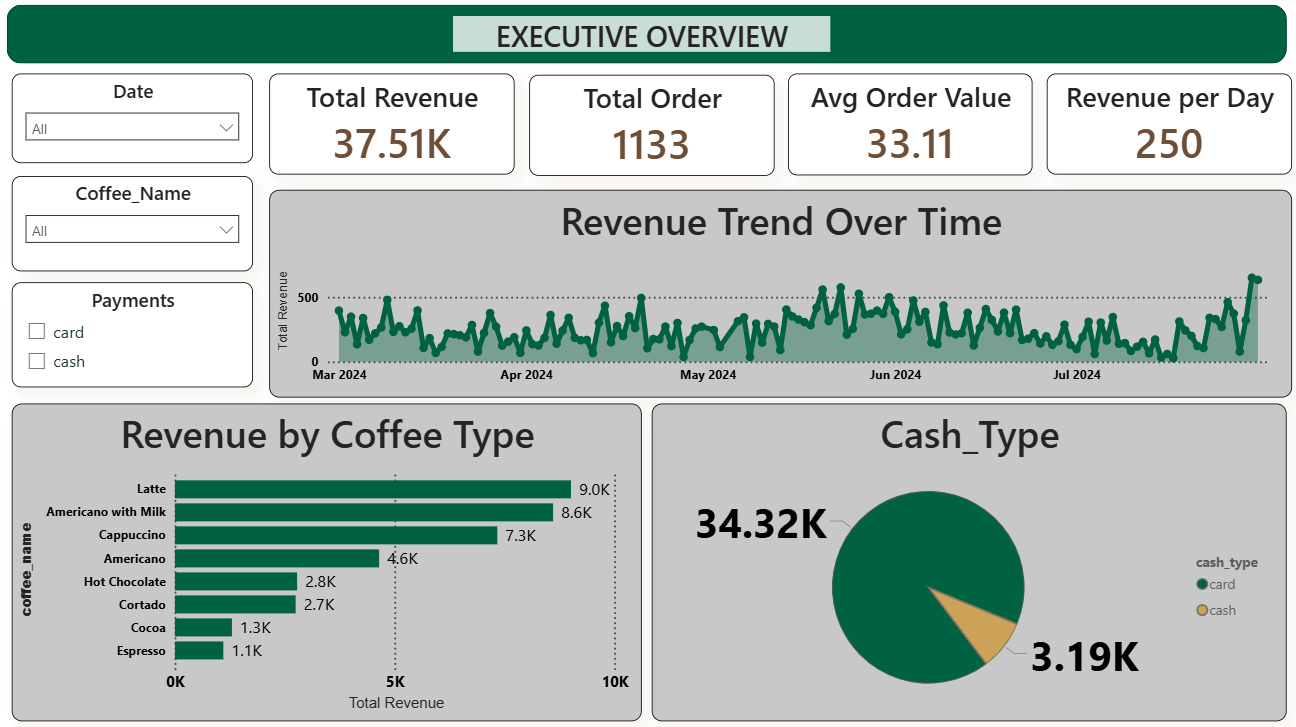

What the dashboard file says about the page in this screenshot:
{"tool":"powerbi","page":{"name":"EXECUTIVE OVERVIEW","canvas":[1280,720],"ordinal":0},"visuals":[{"type":"card","title":"Total Revenue","fields":{"Values":["DateTable.Total Revenue"]},"box":[266.5,76.1,240.5,99.4],"z":0},{"type":"card","title":"Total Order","fields":{"Values":["DateTable.Total Orders"]},"box":[521.7,77.3,240.5,99.4],"z":1000},{"type":"card","title":"Avg Order Value","fields":{"Values":["DateTable.Avg Order Value"]},"box":[775.7,76.1,240,100],"z":2000},{"type":"card","title":"Revenue per Day","fields":{"Values":["DateTable.Revenue per Day"]},"box":[1029.5,76.1,240.5,99.4],"z":3000},{"type":"areaChart","title":"Revenue Trend Over Time","fields":{"Category":["index.datetime.Variation.Date Hierarchy.Year","index.datetime.Variation.Date Hierarchy.Quarter","index.datetime.Variation.Date Hierarchy.Month","index.datetime.Variation.Date Hierarchy.Day"],"Y":["DateTable.Total Revenue"]},"box":[266.3,190.2,1003.7,203.7],"z":4000},{"type":"barChart","title":"Revenue by Coffee Type","fields":{"Category":["index.coffee_name"],"Y":["DateTable.Total Revenue"]},"box":[13.5,400,618.4,311.7],"z":5000},{"type":"pieChart","title":"Cash_Type","fields":{"Category":["index.cash_type"],"Y":["DateTable.Total Revenue"]},"box":[641.7,400,623.3,311.7],"z":6000},{"type":"slicer","title":"Date","fields":{"Values":["DateTable.Date"]},"box":[13.5,76.1,236.8,88.3],"z":7000},{"type":"slicer","title":"Coffee_Name","fields":{"Values":["index.coffee_name"]},"box":[13.5,176.7,236.8,93.3],"z":8000},{"type":"slicer","title":"Payments","fields":{"Values":["index.cash_type"]},"box":[13.5,281,236.8,103.1],"z":9000},{"type":"shape","box":[8.6,8.6,1256.4,57.7],"z":9500},{"type":"textbox","title":"EXECUTIVE OVERVIEW","box":[446.6,19.6,370.6,35.6],"z":10000}]}

Visuals, with their boxes in screenshot pixels (x1, y1, x2, y2), scaled from the page's 1280x720 canvas onto the 1296x727 screenshot:
"Total Revenue" card: x1=270 y1=77 x2=513 y2=177
"Total Order" card: x1=528 y1=78 x2=772 y2=178
"Avg Order Value" card: x1=785 y1=77 x2=1028 y2=178
"Revenue per Day" card: x1=1042 y1=77 x2=1286 y2=177
"Revenue Trend Over Time" areaChart: x1=270 y1=192 x2=1286 y2=398
"Revenue by Coffee Type" barChart: x1=14 y1=404 x2=640 y2=719
"Cash_Type" pieChart: x1=650 y1=404 x2=1281 y2=719
"Date" slicer: x1=14 y1=77 x2=253 y2=166
"Coffee_Name" slicer: x1=14 y1=178 x2=253 y2=273
"Payments" slicer: x1=14 y1=284 x2=253 y2=388
shape: x1=9 y1=9 x2=1281 y2=67
"EXECUTIVE OVERVIEW" textbox: x1=452 y1=20 x2=827 y2=56
